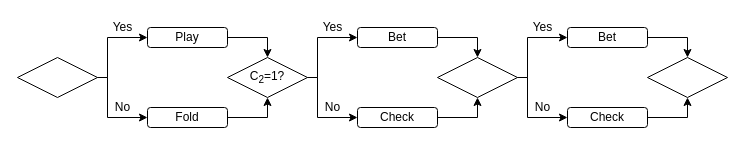
This 745x145 diagram has some shape labels left out. Each missing label, with the box of its shape:
C 1 =1?: (16, 56, 98, 98)
C 3 =1?: (436, 56, 518, 98)
Final: (646, 56, 728, 98)
